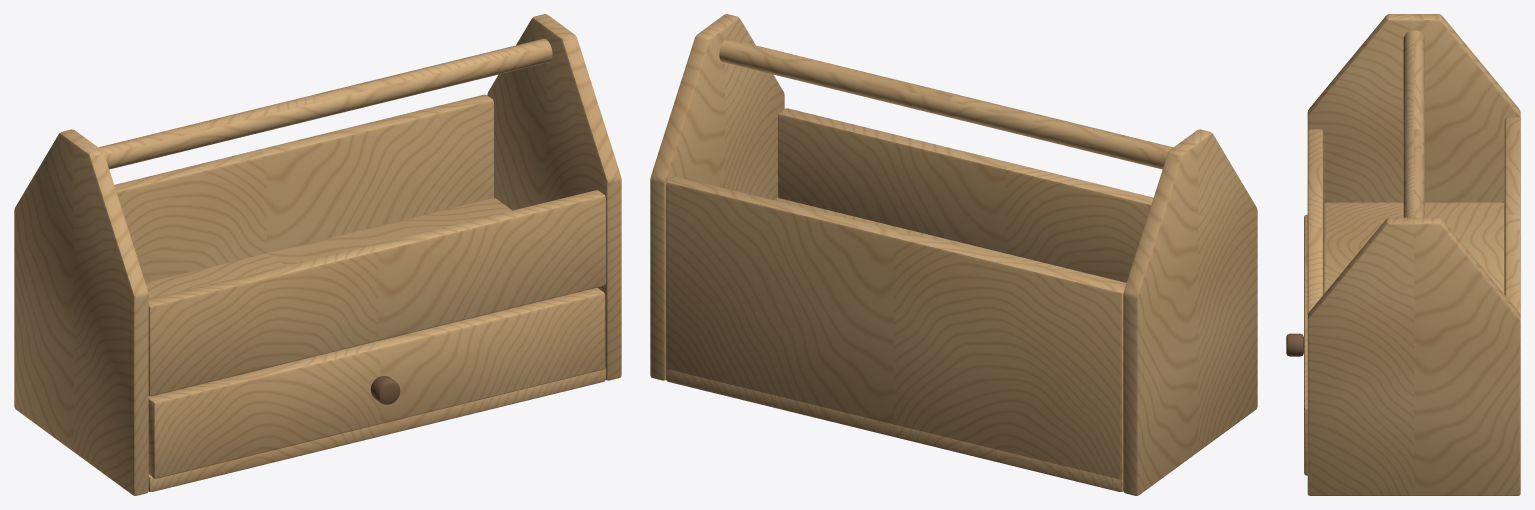
File: toolbox.glb
3 renders of one model, left to right at view 1: azimuth 30°, elevation 25°; view 2: azimuth 150°, elevation 25°; view 3: azimuth 270°, elevation 25°, orthographic. The views are drawn at different scales.
Parts seen in each view (by area): view 1: Wooden toolbox; view 2: Wooden toolbox; view 3: Wooden toolbox.
Part boxes in pixels (left/top/right/bottom): Wooden toolbox: left=14, top=14, right=621, bottom=495; Wooden toolbox: left=650, top=14, right=1257, bottom=495; Wooden toolbox: left=1286, top=14, right=1520, bottom=495.
Bounding box in the file's own units: 0.56 × 0.34 × 0.264.
2 materials, 1 textured.
